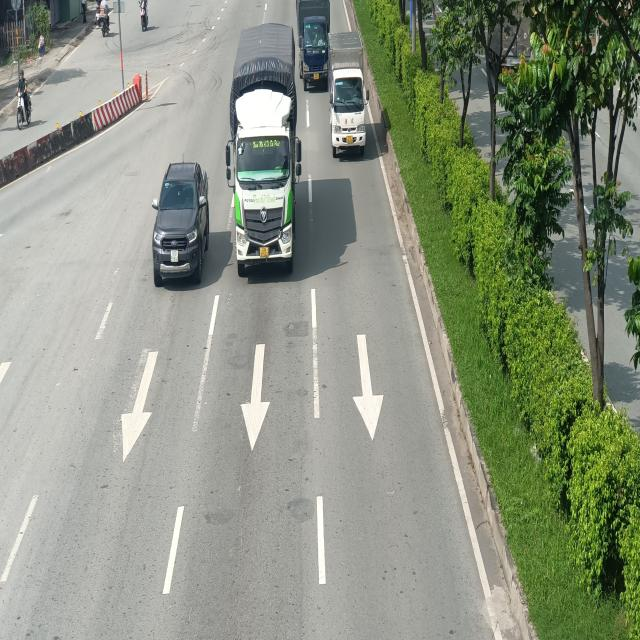car: (152, 162, 212, 283)
truck: (227, 14, 302, 270), (329, 26, 369, 161), (296, 0, 330, 91)
